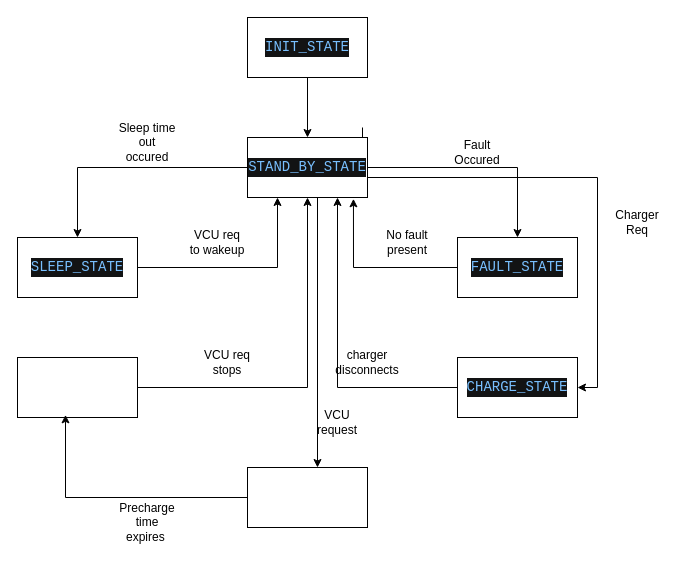
Some shapes in this 685 by 561 pixel diagram are drawn without their labels. The shapes that lost their labels are listed below. From the top down, each one's centre as x and y in pixels, then its label:
At point 77,387: "DRIVE_STATE".
At point 307,497: "PRECHARGE_STATE".
